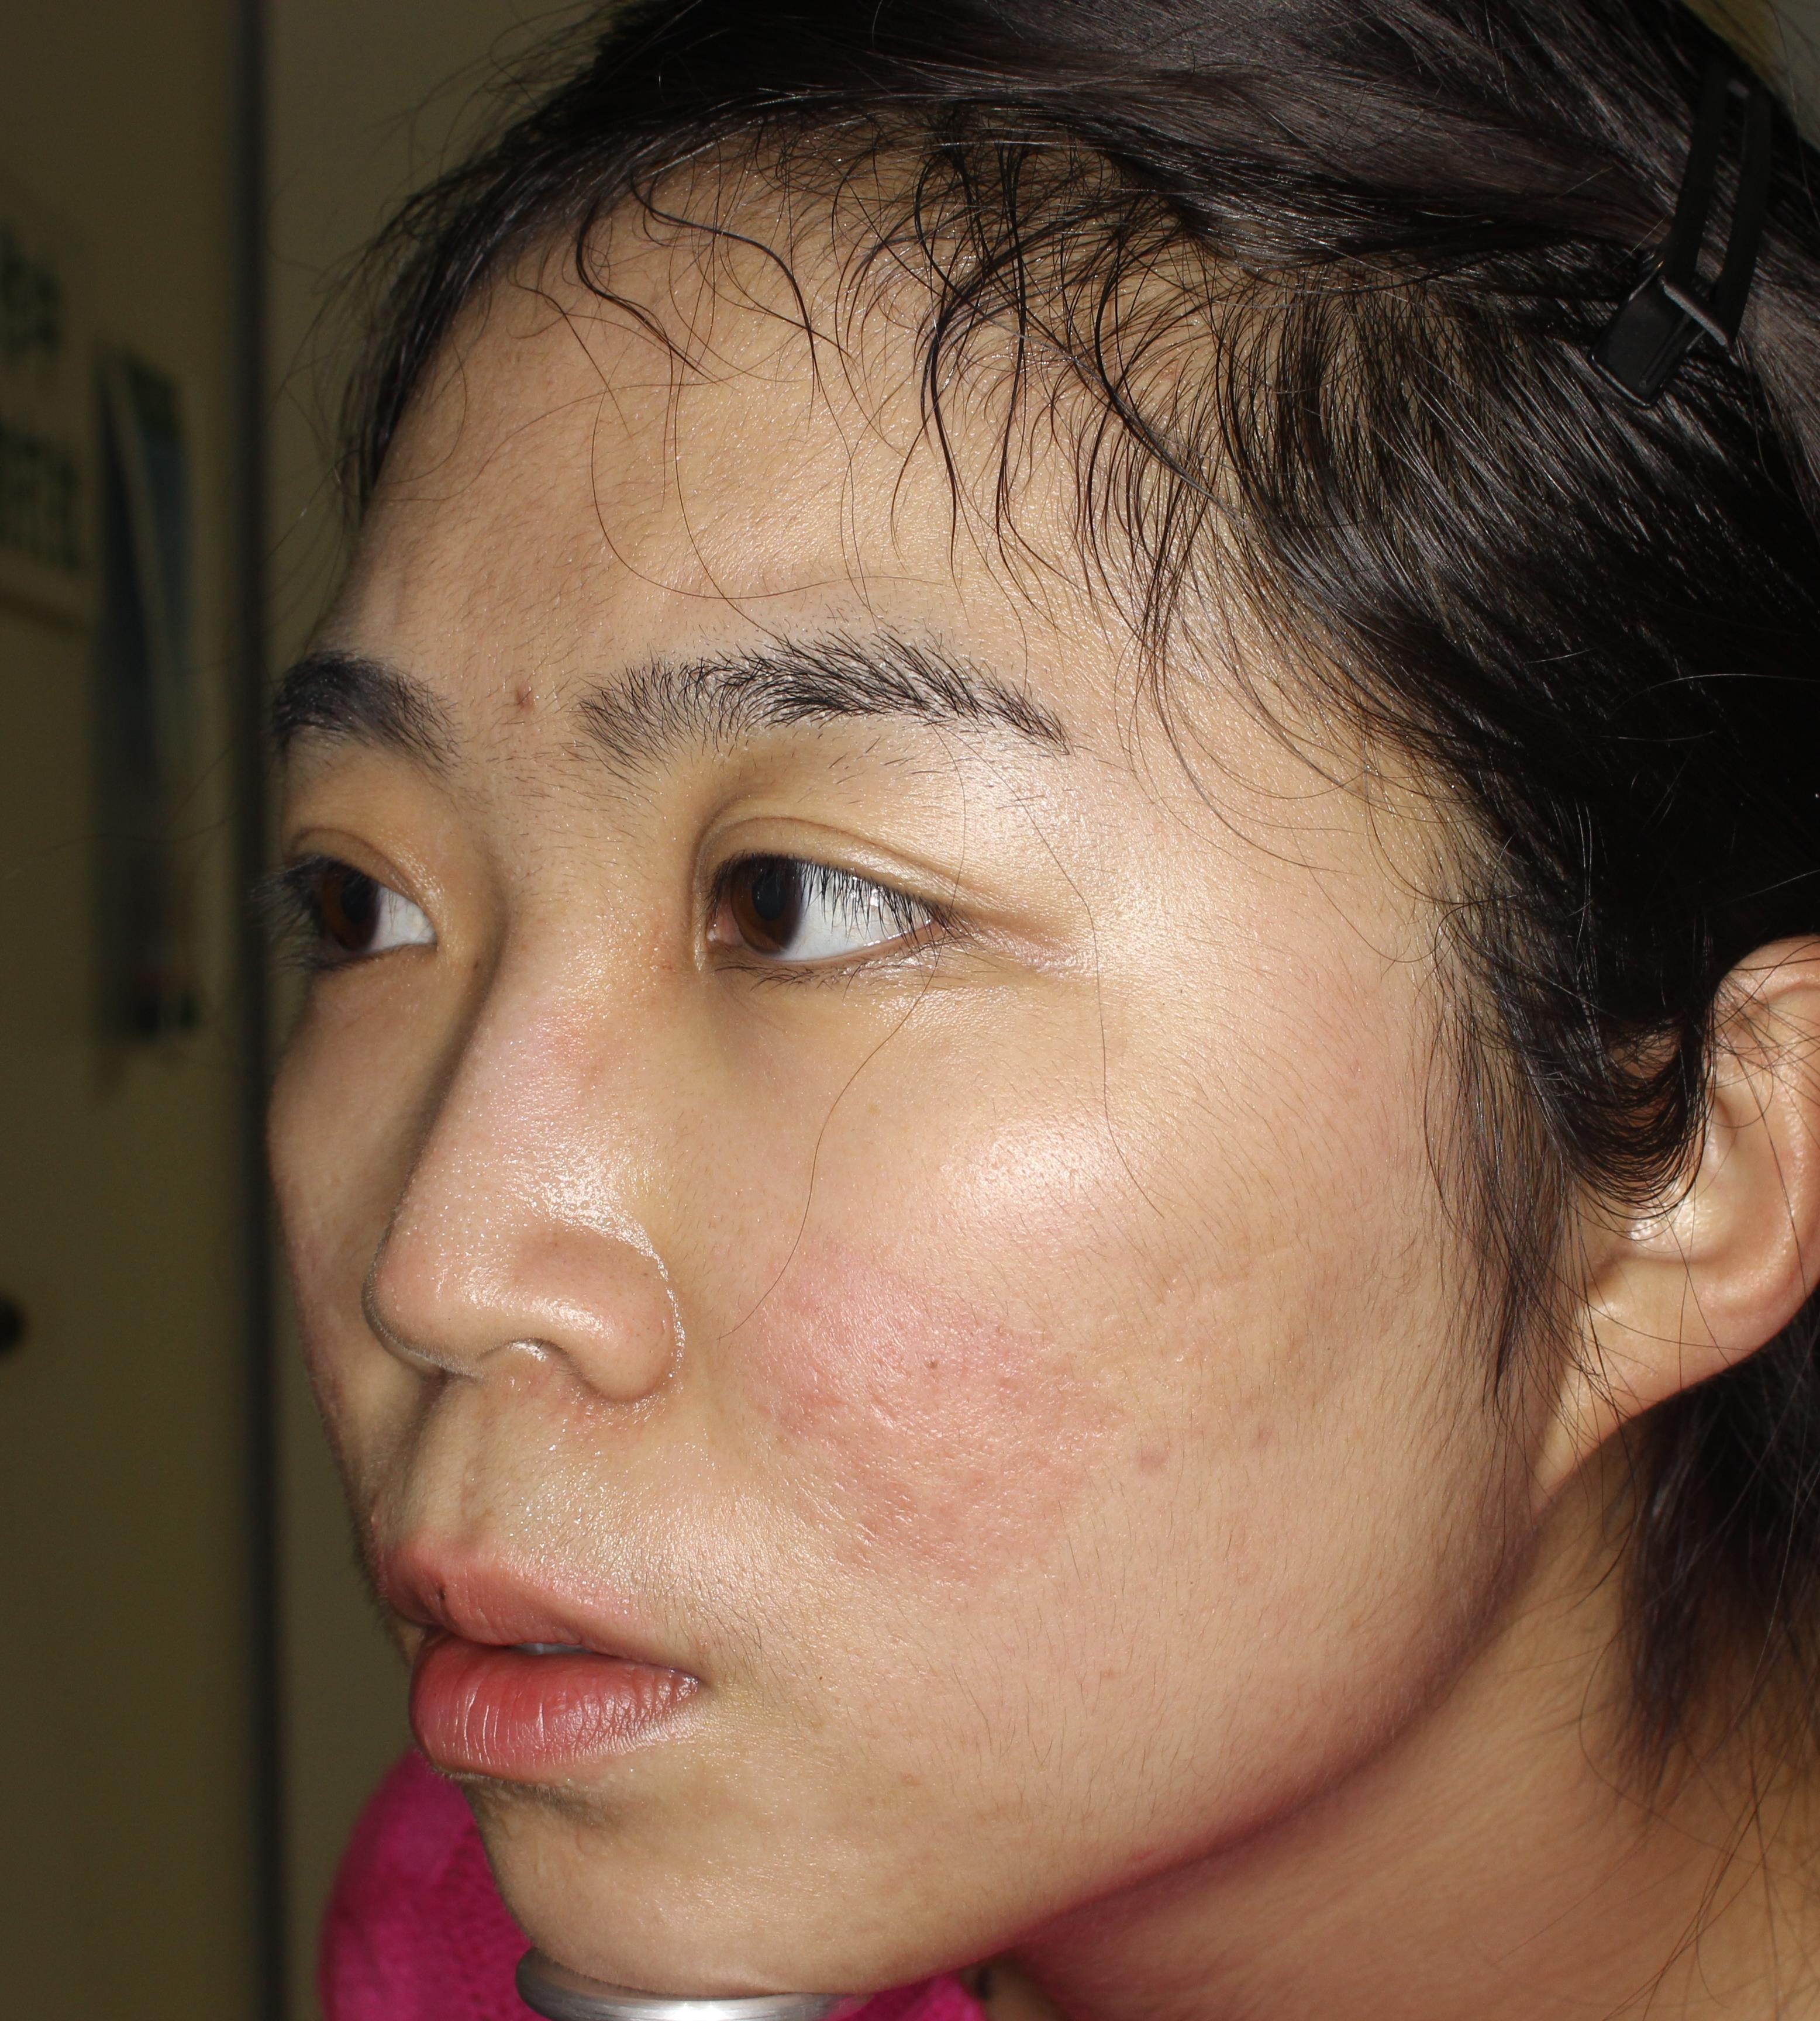fore: (499, 662, 580, 757)
